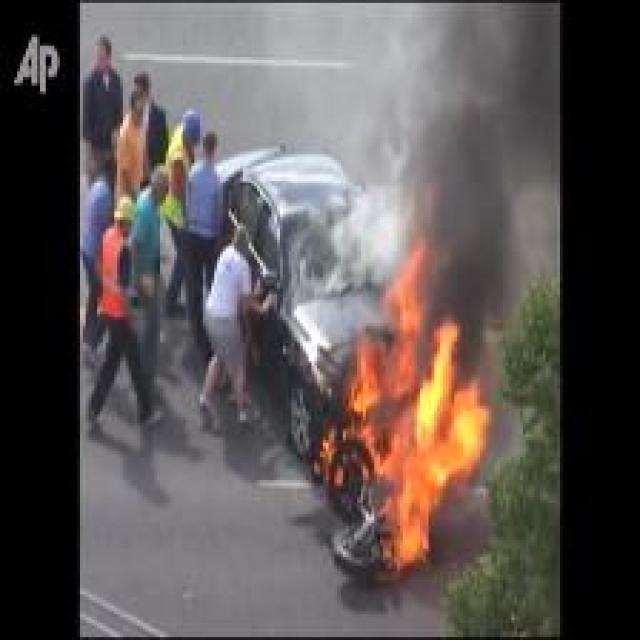Fire: (352, 312, 489, 572)
Smoke: (371, 3, 560, 245)
